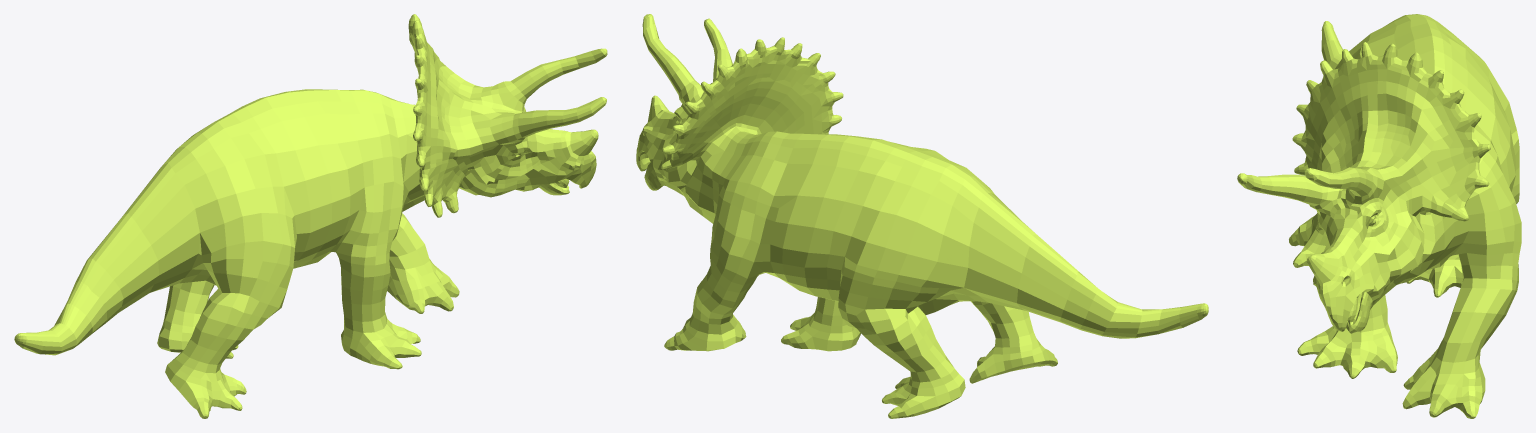
The picture shows the model from 3 angles, left to right: view 1: azimuth 30°, elevation 25°; view 2: azimuth 150°, elevation 25°; view 3: azimuth 270°, elevation 25°; orthographic projection. The views are drawn at different scales.
Visible parts, largest first — view 1: trice; view 2: trice; view 3: trice.
Boxes of the visible parts, left/top/right/bottom form: trice: left=14, top=14, right=607, bottom=418; trice: left=636, top=14, right=1208, bottom=418; trice: left=1237, top=14, right=1521, bottom=418.
Size of the model in its own units: 36025 by 18055 by 13502.
